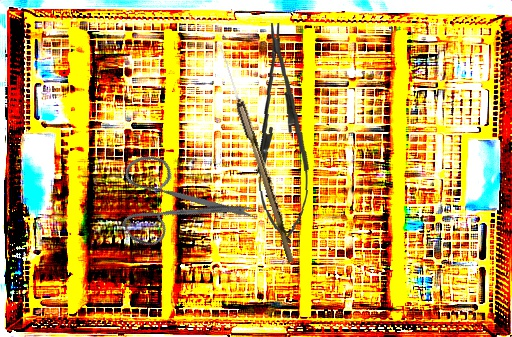Iris Scissors: (96, 118, 262, 281)
Needle Holder: (249, 21, 314, 245)
Surgical Spoon: (215, 45, 299, 264)
